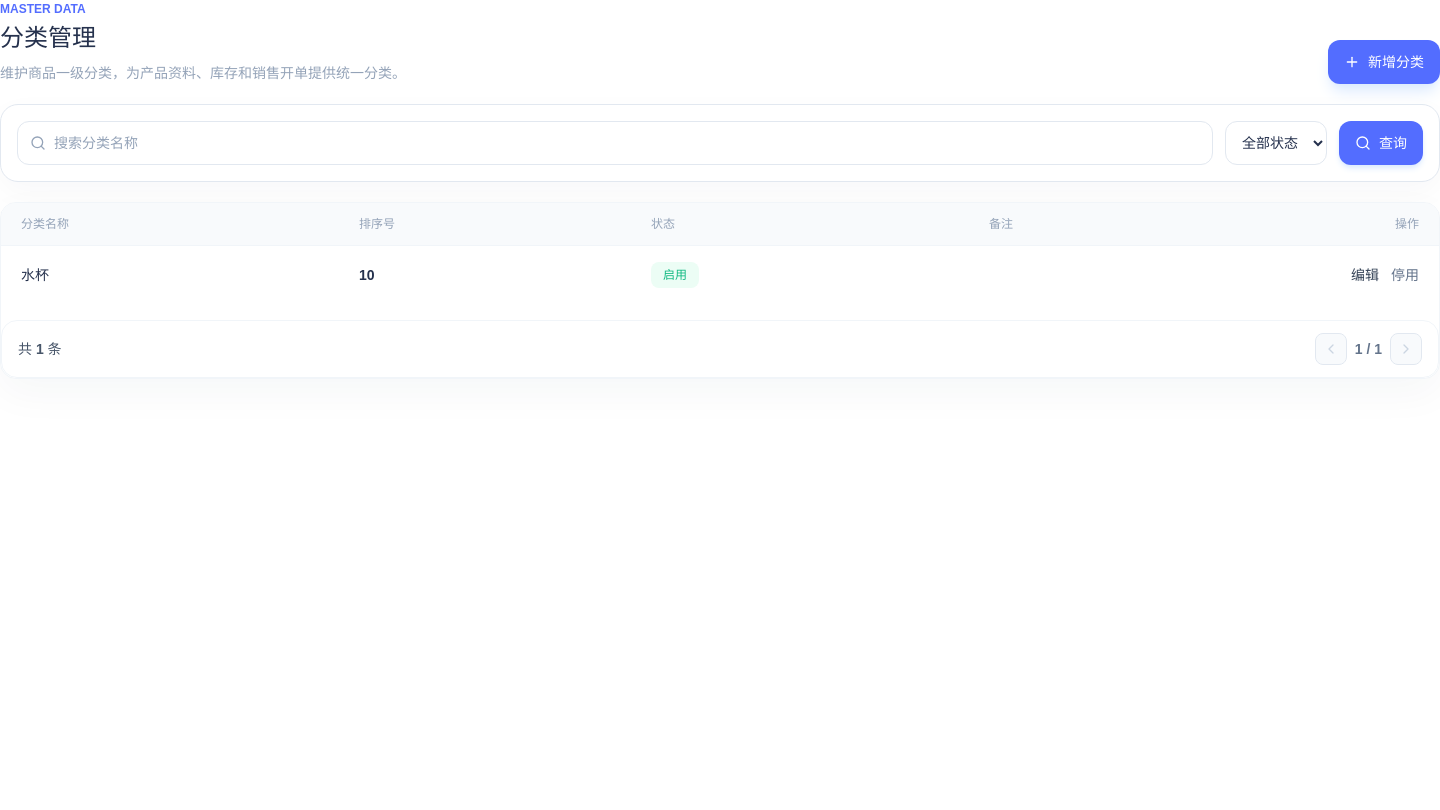
masterdata views › opens the right-side drawer when editing a small master-data record
This screenshot has width=1440, height=810.
Click the button "编辑" at (1365,275), box [1351,264,1379,286]
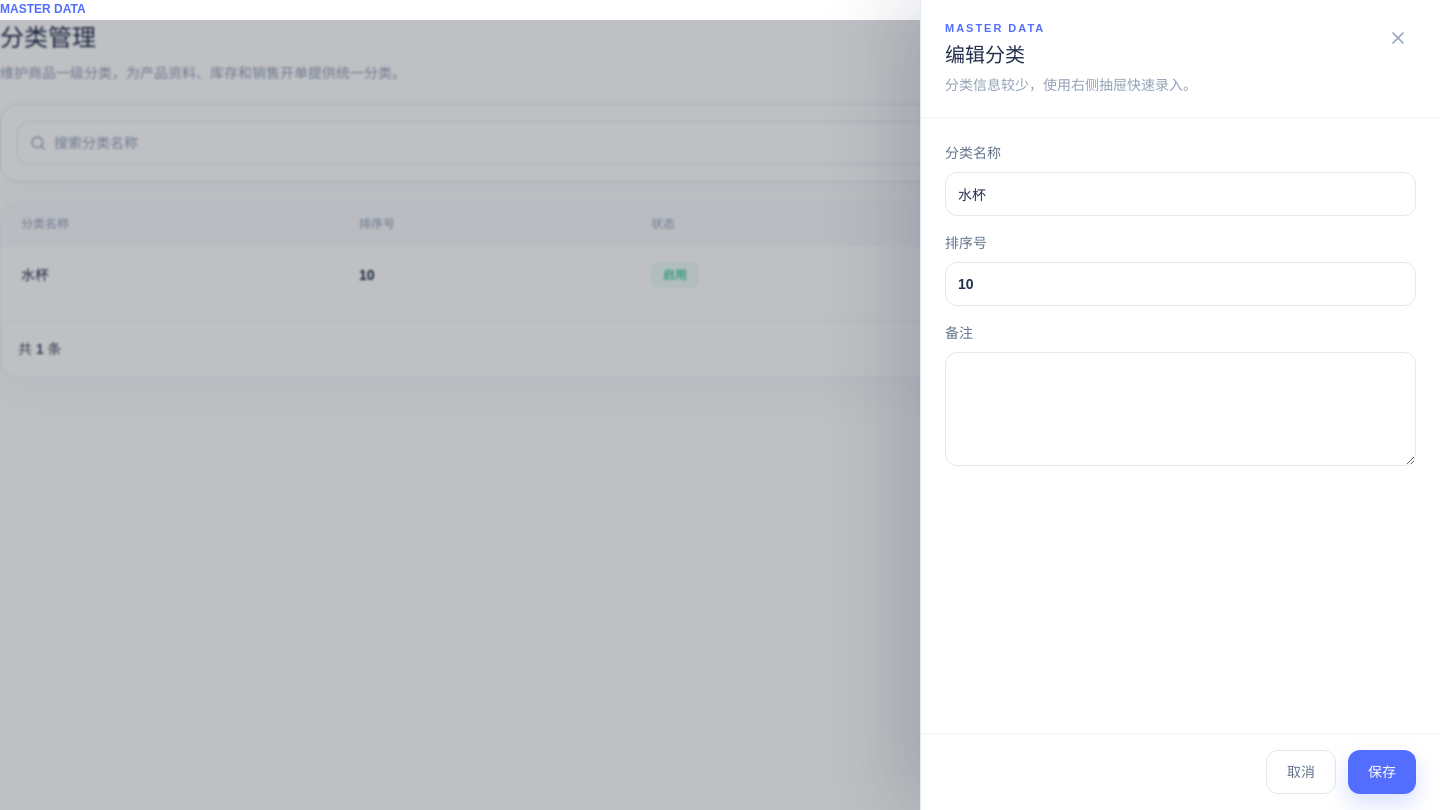
Expected: the element with test id "masterdata-drawer" shows "编辑分类", [945,44,1025,66]
Expected: the field with test id "category-name" holds "水杯", [945,172,1416,216]
